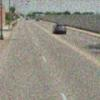cars: (52, 22, 68, 36)
